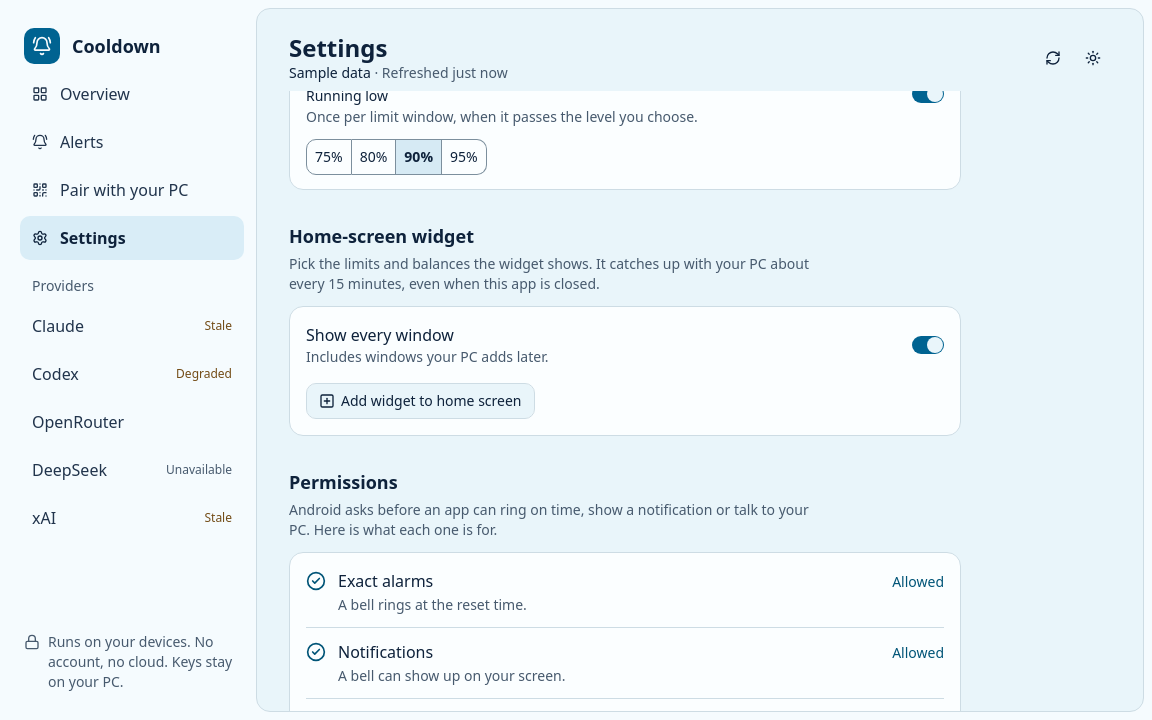
Phone widget settings › asks the launcher to place the widget
(page scrolled)
Click the button "Add widget to home screen": x=420, y=401 left=306, top=383, right=534, bottom=419
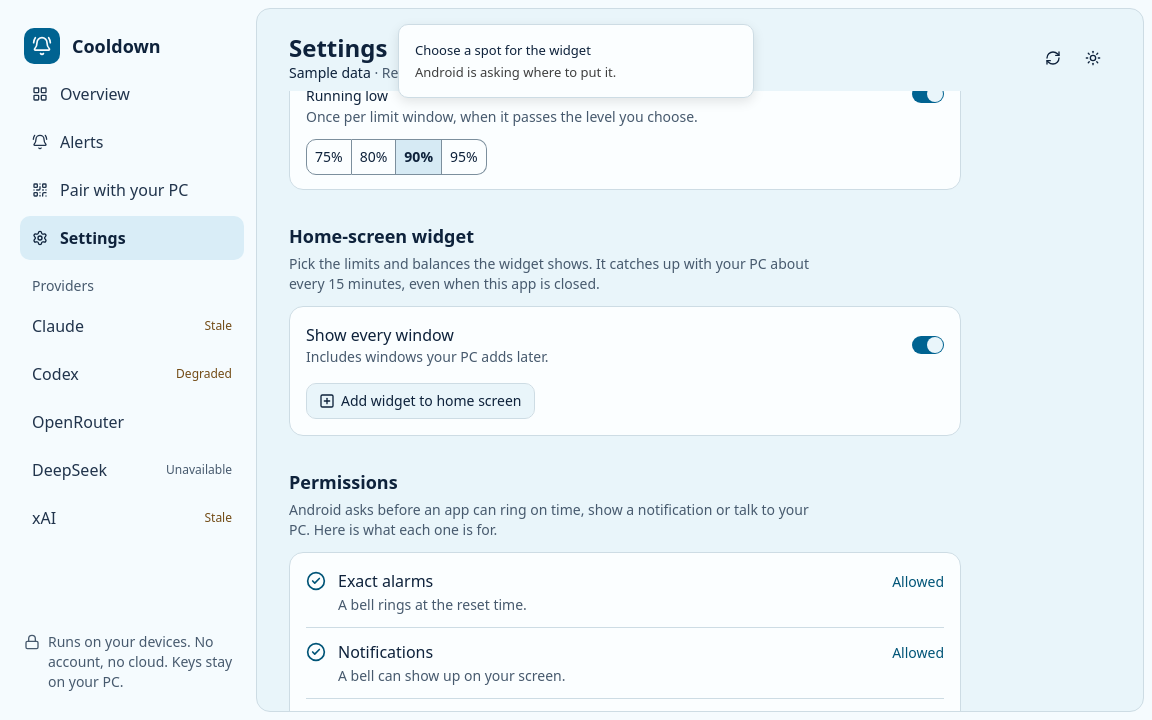
expect the text "Choose a spot for the widget" is shown: met, box left=415, top=41, right=616, bottom=60
